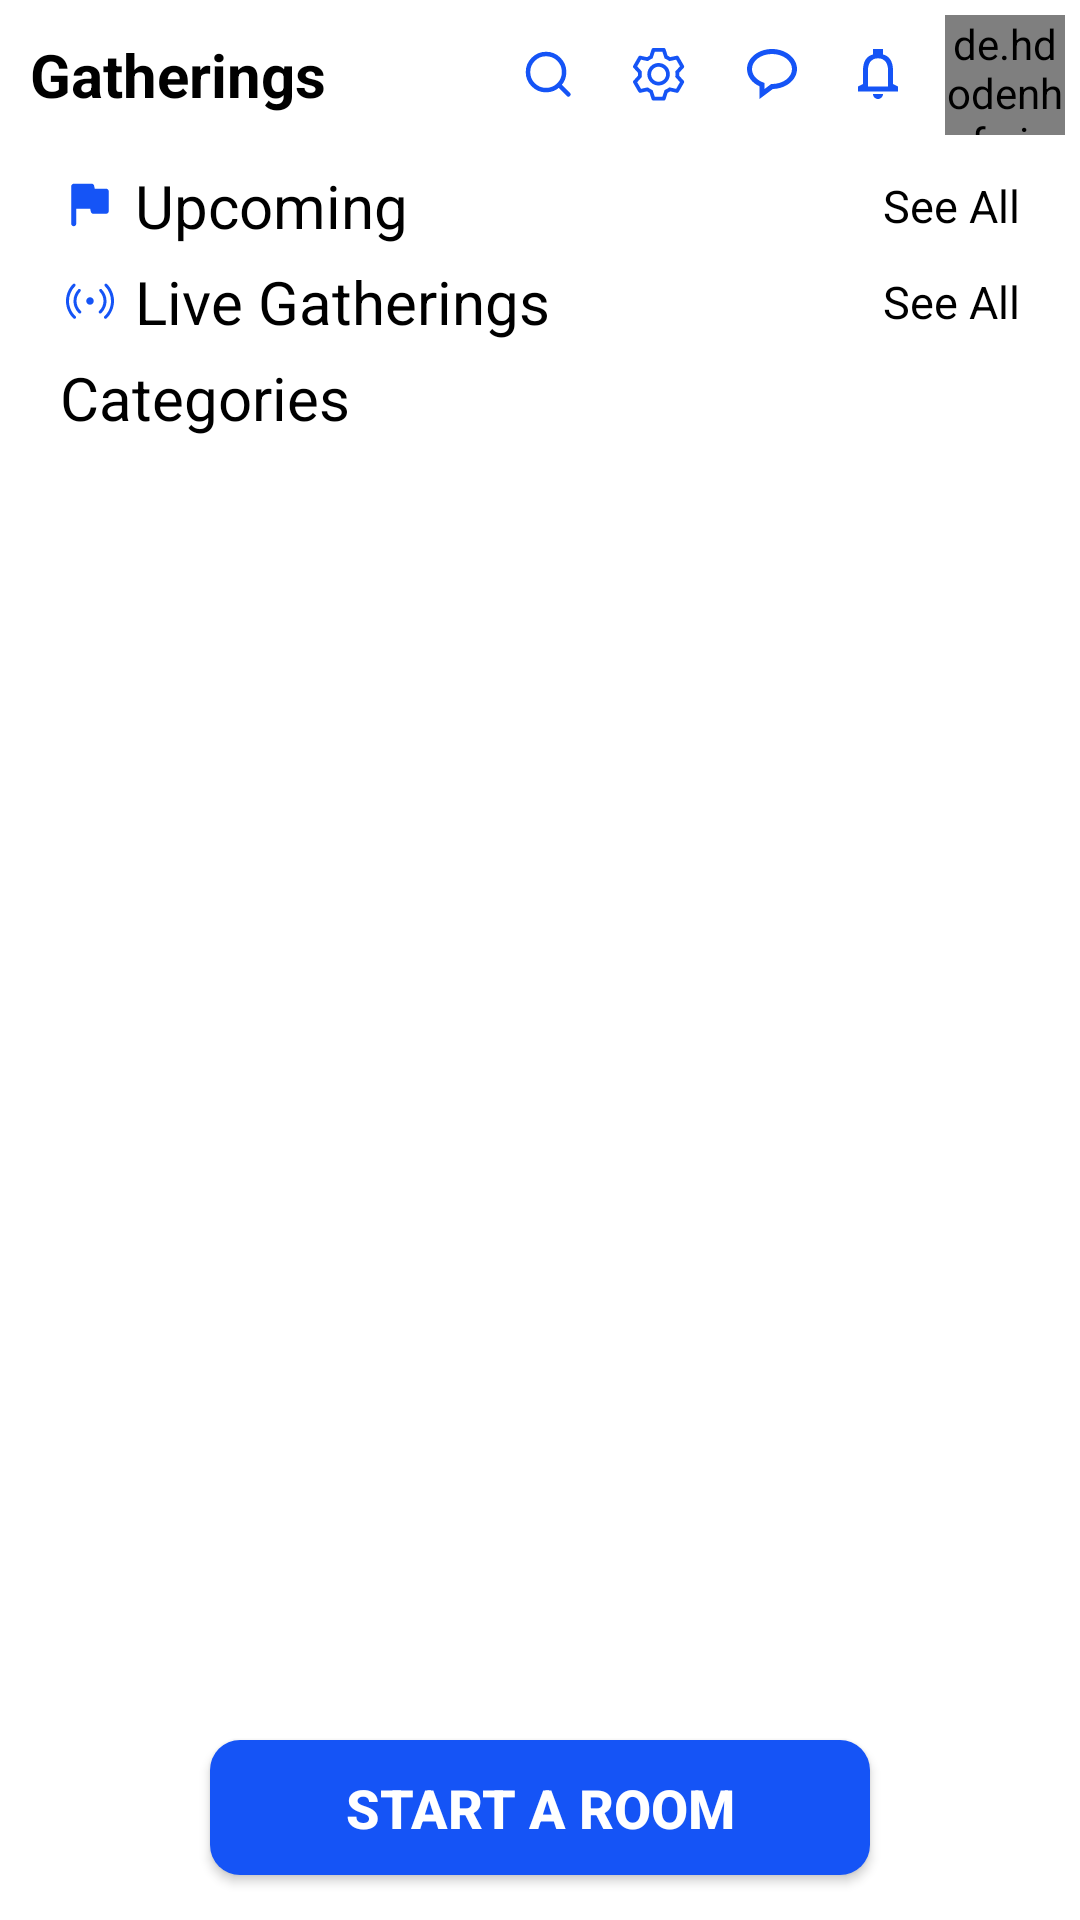

Icon bounding boxes for this 1080*1920 phone screenshot, format (x1, y1, x2, y2):
chat: (747, 49, 797, 99)
flag: (71, 183, 109, 227)
notification: (858, 49, 898, 99)
search: (525, 51, 571, 97)
settings: (633, 48, 685, 101)
signal: (66, 283, 114, 319)
